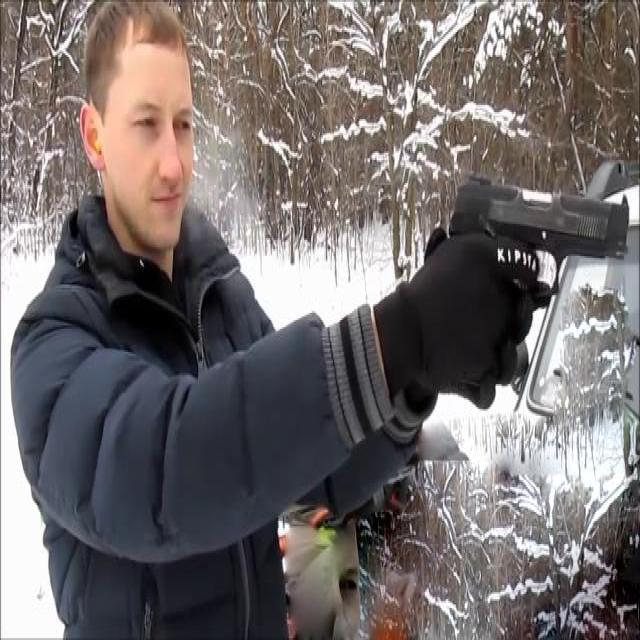pistol: (451, 174, 629, 339)
